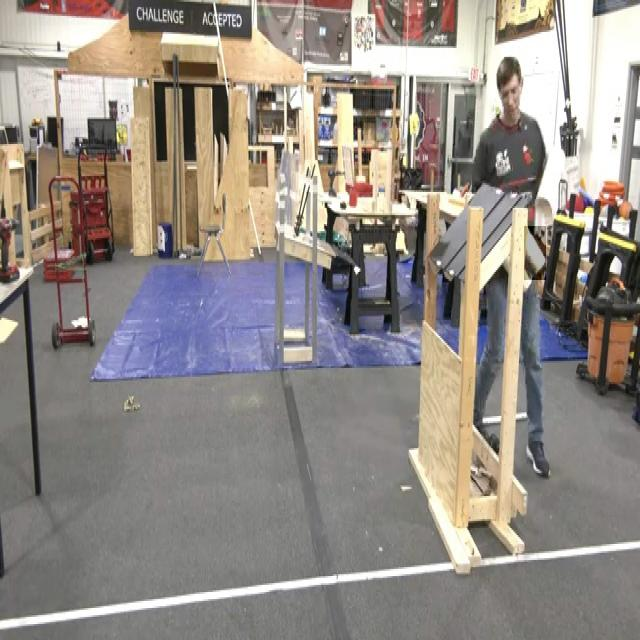Coral: (524, 226, 546, 280)
